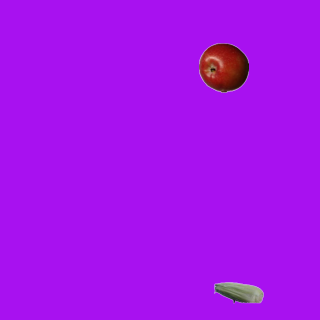Apple Braeburn: (198, 42, 248, 92)
Corn Husk: (213, 267, 263, 317)
